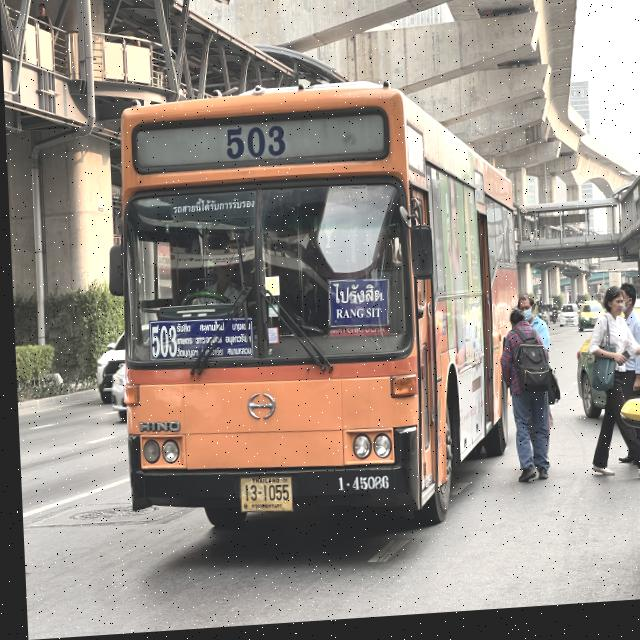BMTA-bus: (98, 60, 529, 561)
Bus Line Number: (217, 125, 294, 166)
Bus Side Number: (329, 477, 388, 501)
Destination Sign: (323, 283, 387, 333)
